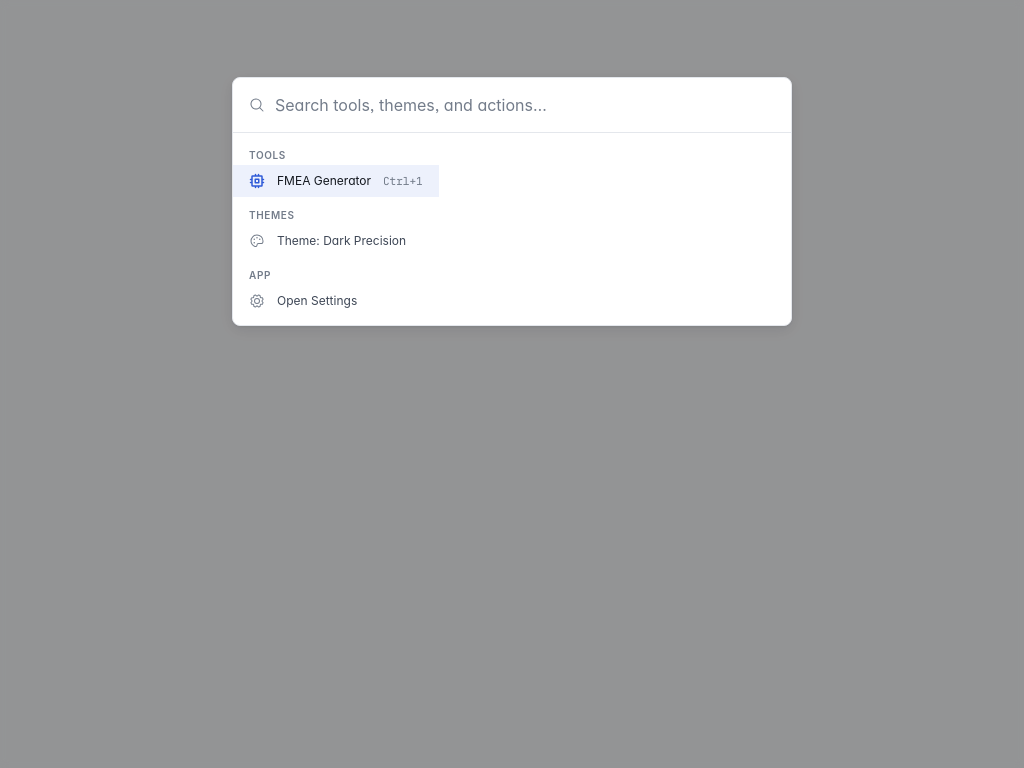
Scenario: CommandPalette › renders the empty state when no actions match the query
Type "zzznomatch" into the dropdown named "search command palette" at coordinates (524, 105), box [273, 94, 775, 116]
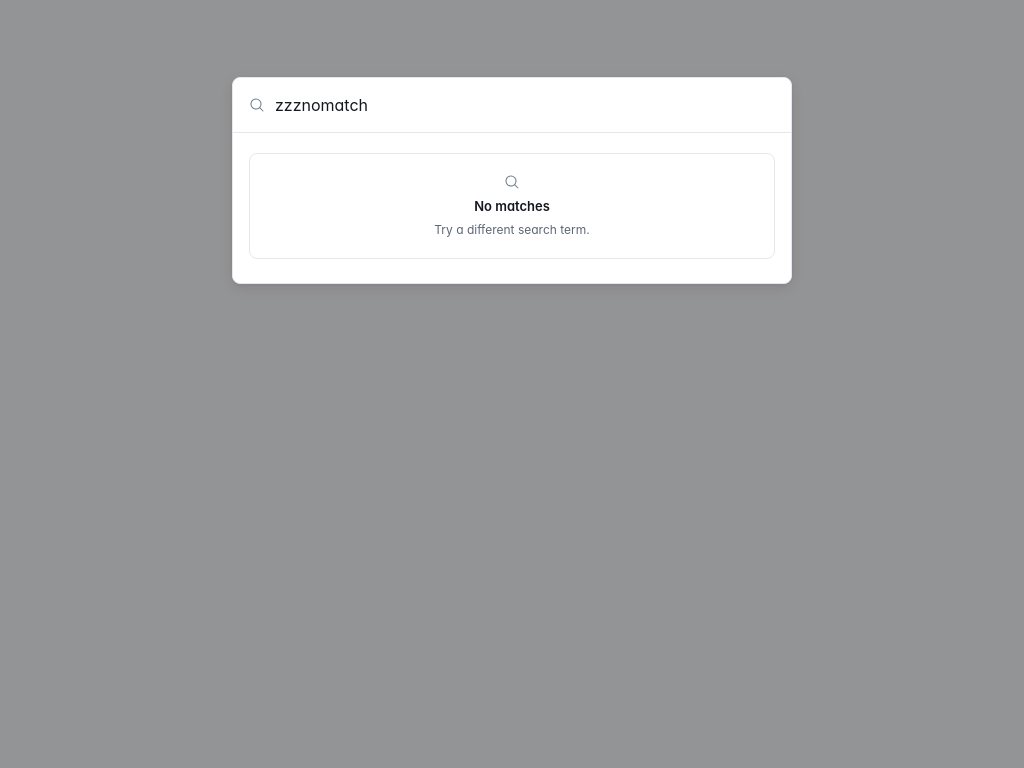
Expected: the heading "No matches" is shown, [474, 198, 550, 214]
Expected: the option is gone
